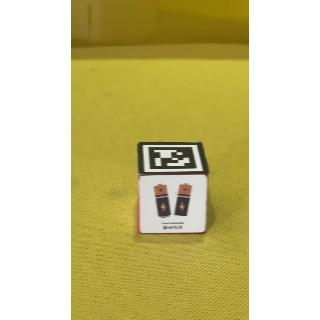Used_Battery: (141, 176, 210, 236)
